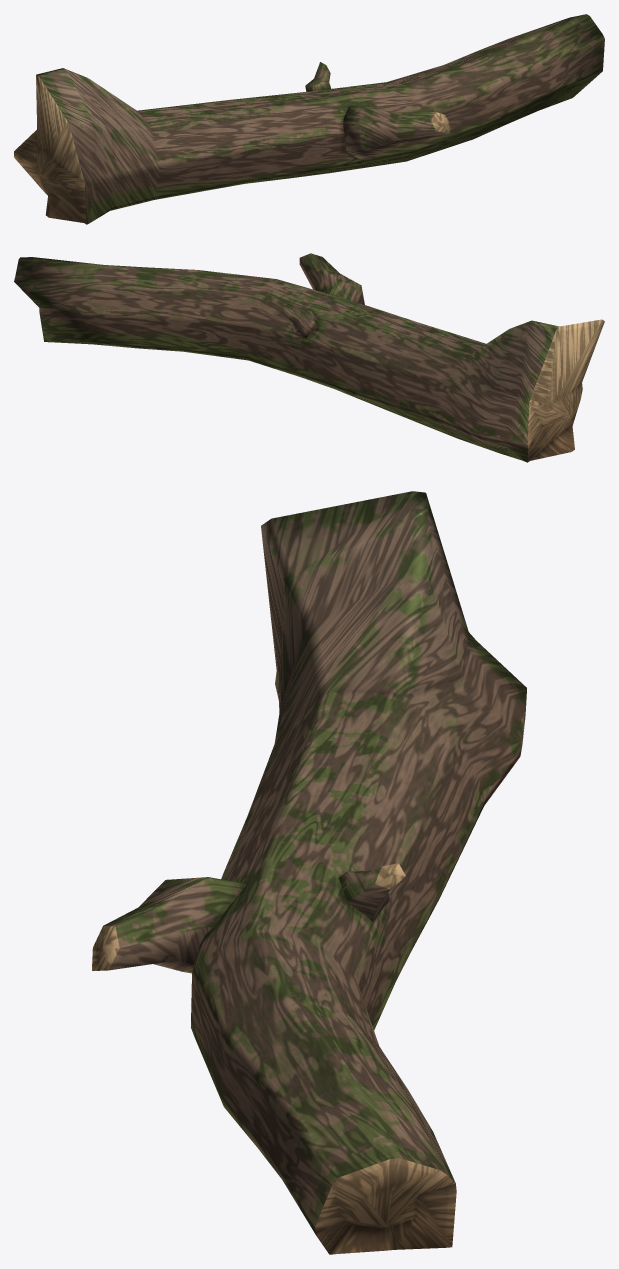
The model's file is log_2_mossy.glb.
3 renders of one model, top to bottom at view 1: azimuth 30°, elevation 25°; view 2: azimuth 150°, elevation 25°; view 3: azimuth 270°, elevation 25°, orthographic. The views are drawn at different scales.
Visible parts, largest first — view 1: log_2_mossy; view 2: log_2_mossy; view 3: log_2_mossy.
Boxes of the visible parts, <box> form: log_2_mossy: <box>14,14,604,224</box>; log_2_mossy: <box>14,253,604,462</box>; log_2_mossy: <box>92,491,526,1254</box>.
Size of the model in its own units: 4.4 by 1 by 1.5.
2 materials, 2 textured.
